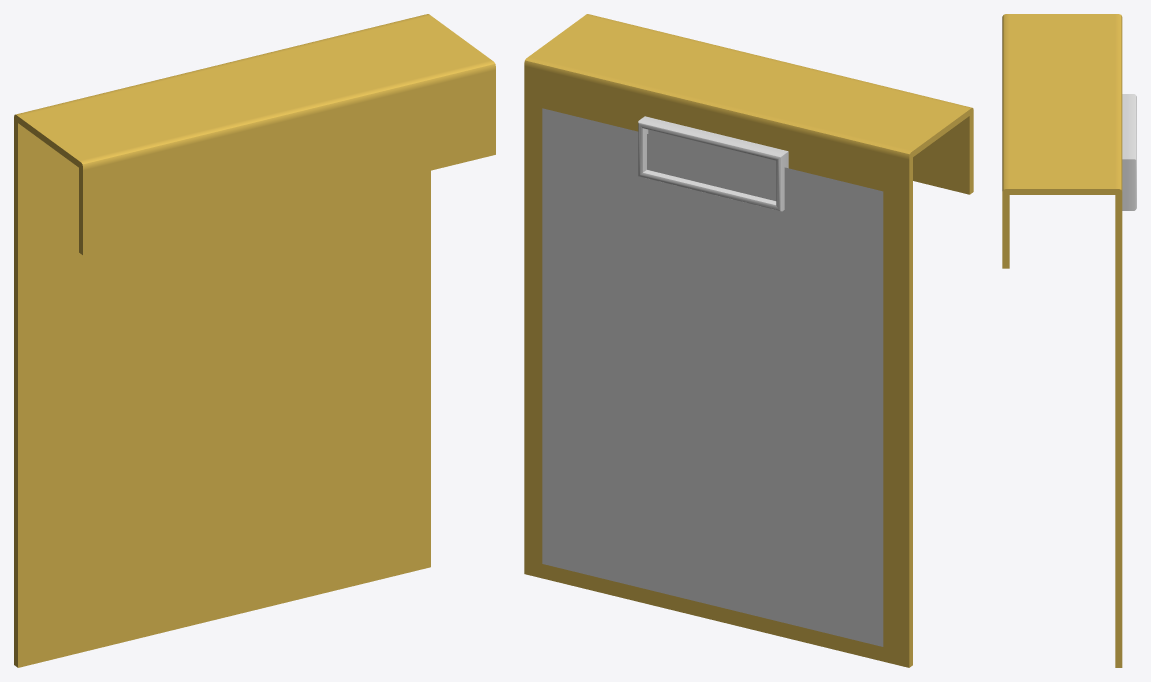
File: clipboard.fbx
The picture shows the model from 3 angles, left to right: view 1: azimuth 30°, elevation 25°; view 2: azimuth 150°, elevation 25°; view 3: azimuth 270°, elevation 25°; orthographic projection. The views are drawn at different scales.
Parts seen in each view (by area): view 1: Clipboard; view 2: Clipboard; view 3: Clipboard.
Boxes of the visible parts, box(x1,y1,x2,y2) form: Clipboard: box(14, 14, 495, 667); Clipboard: box(524, 14, 973, 667); Clipboard: box(1002, 14, 1136, 667).
Size of the model in its own units: 22.32 by 28.5 by 7.24.
